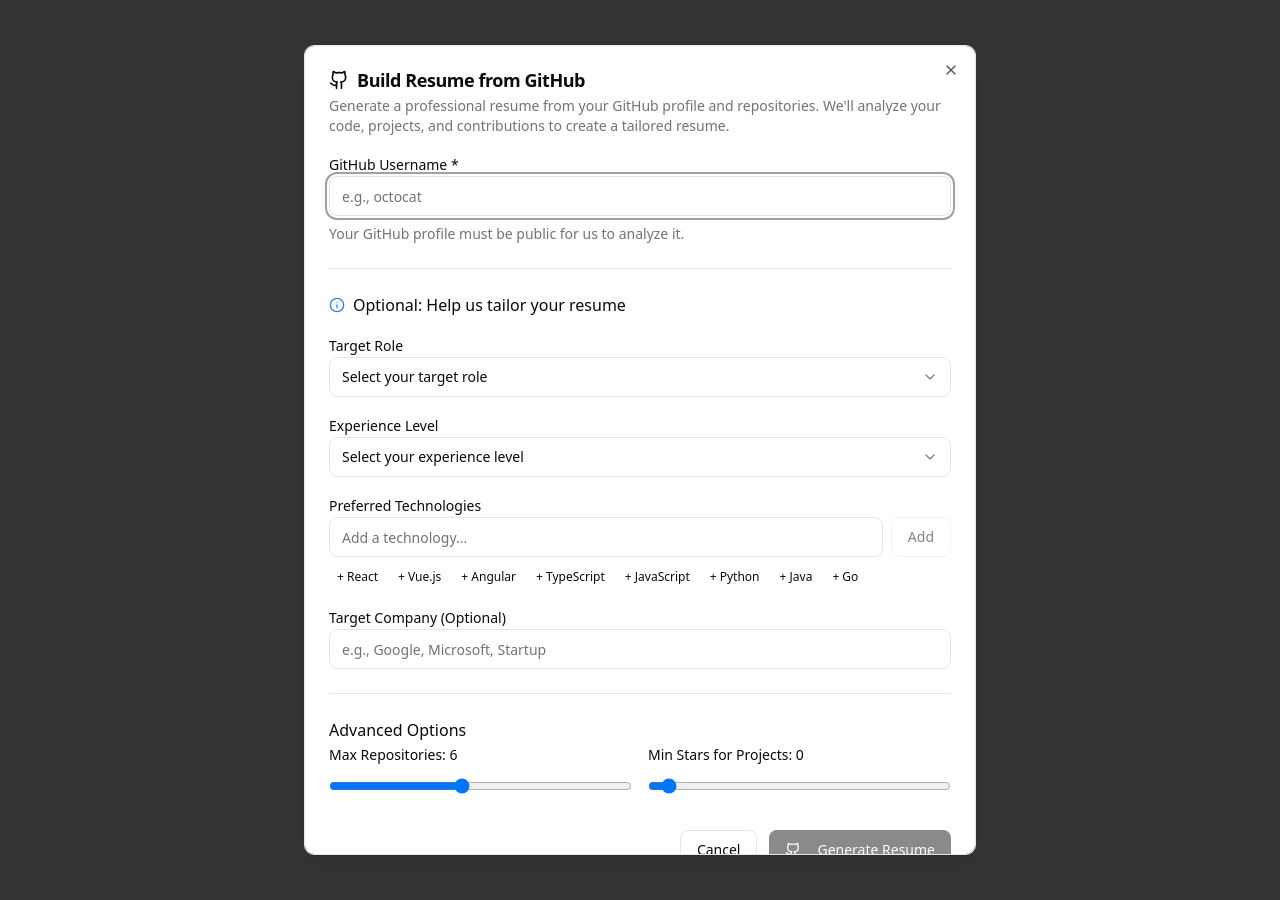
Scenario: GitHubResumeModal › form interactions › should add common tech stack suggestions
What coordinates should you click on to do the following:
click the button "+ React"
I would click on:
 (358, 577)
Its box is 329,565 -> 386,589.
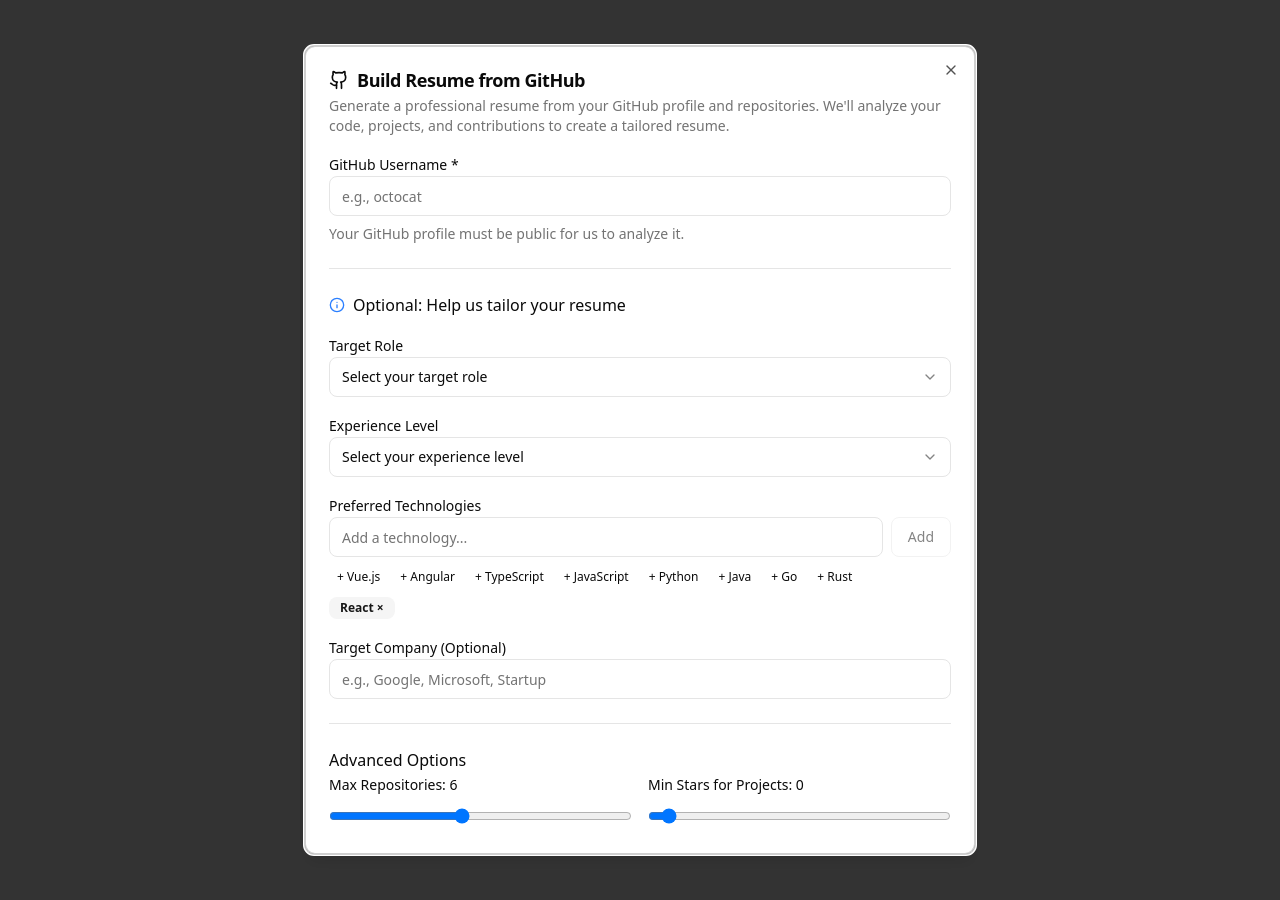
Expected: the text "React ×" is shown, 329,597 -> 395,619
